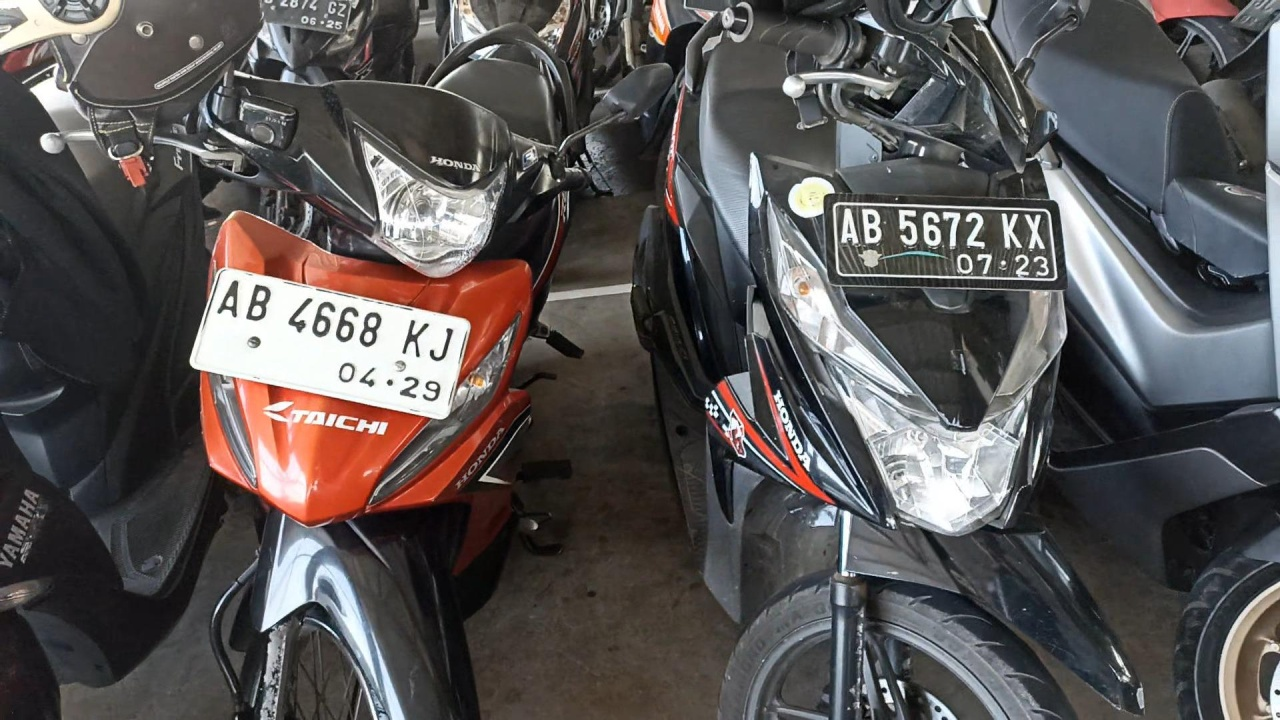plate: (189, 267, 470, 420), (833, 203, 1057, 281)
